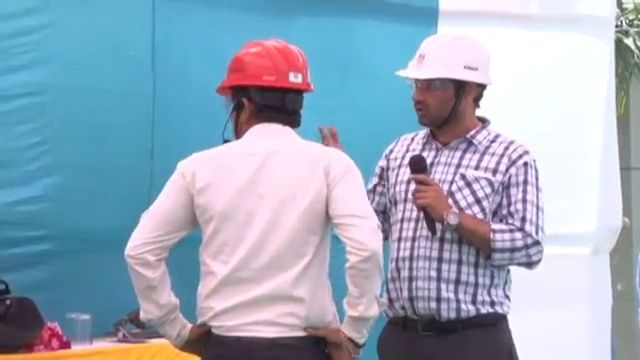helmet: (217, 38, 316, 99), (392, 33, 495, 88)
helmet_on: (391, 33, 495, 138), (216, 38, 317, 142)
person: (123, 39, 387, 360), (366, 35, 548, 360)
